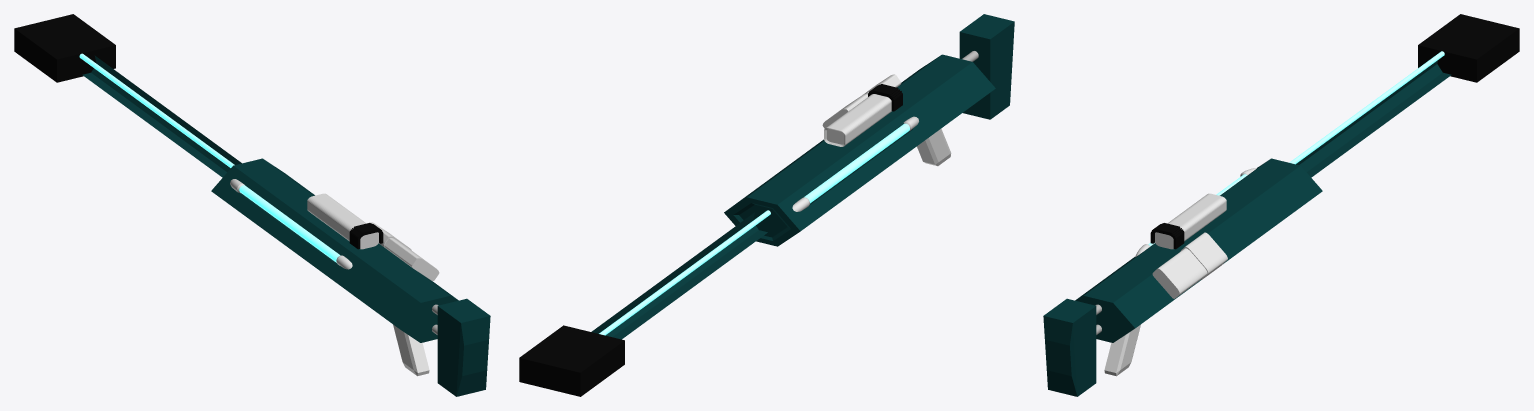
Rendered from railgun v1.glb.
3 renders of one model, left to right at view 1: azimuth 30°, elevation 25°; view 2: azimuth 150°, elevation 25°; view 3: azimuth 330°, elevation 25°, orthographic. The views are drawn at different scales.
Visible parts, largest first — view 1: chamber, muzzle, stock, barrel, sight, shot tube, Cylinder, handle, mag, sight cover; view 2: chamber, muzzle, stock, barrel, sight, Cylinder, shot tube, handle, sight cover; view 3: chamber, muzzle, stock, barrel, sight, mag, Cylinder, handle, mag insert, sight cover.
Part boxes in pixels (x1,y1,x2,y2): chamber: (211,158,458,342); muzzle: (14,14,115,82); stock: (437,298,490,396); barrel: (82,55,241,177); sight: (307,193,378,249); shot tube: (239,185,340,262); Cylinder: (79,53,234,167); handle: (393,324,429,376); mag: (384,238,439,280); sight cover: (349,223,383,249); chamber: (724,54,995,246); muzzle: (519,325,624,396); stock: (959,14,1014,119); barrel: (591,212,767,339); sight: (824,94,891,146); Cylinder: (599,210,770,335); shot tube: (804,123,909,203); handle: (917,128,951,166); sight cover: (868,84,902,111); chamber: (1075,158,1322,342); muzzle: (1418,14,1519,82); stock: (1043,298,1096,396); barrel: (1296,60,1451,177); sight: (1155,193,1226,249); mag: (1152,248,1207,298); Cylinder: (1289,51,1444,164); handle: (1104,324,1140,376); mag insert: (1180,232,1227,279); sight cover: (1150,223,1184,249).
Size of the model in its own units: 0.5434 by 0.6822 by 5.07.
